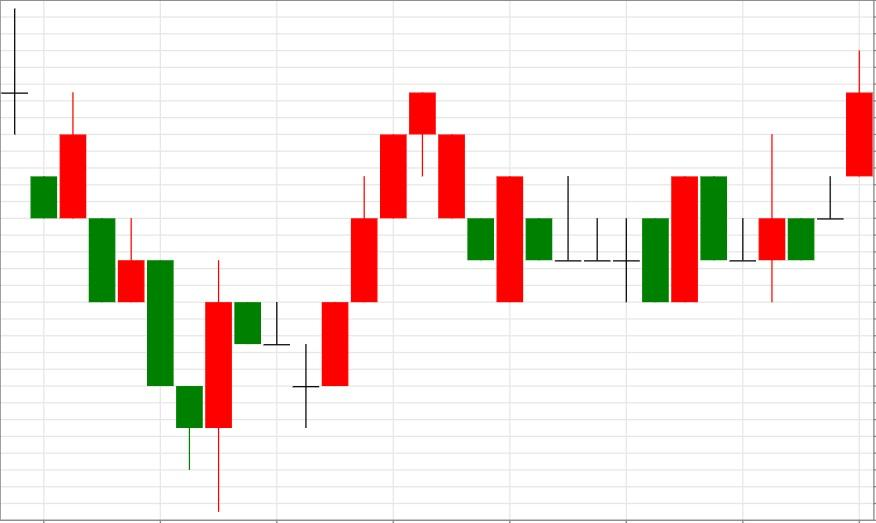bullish_engulfing_rise: (59, 92, 233, 512), (408, 92, 525, 303)
three_white_soldiers_rise: (233, 134, 407, 428)
